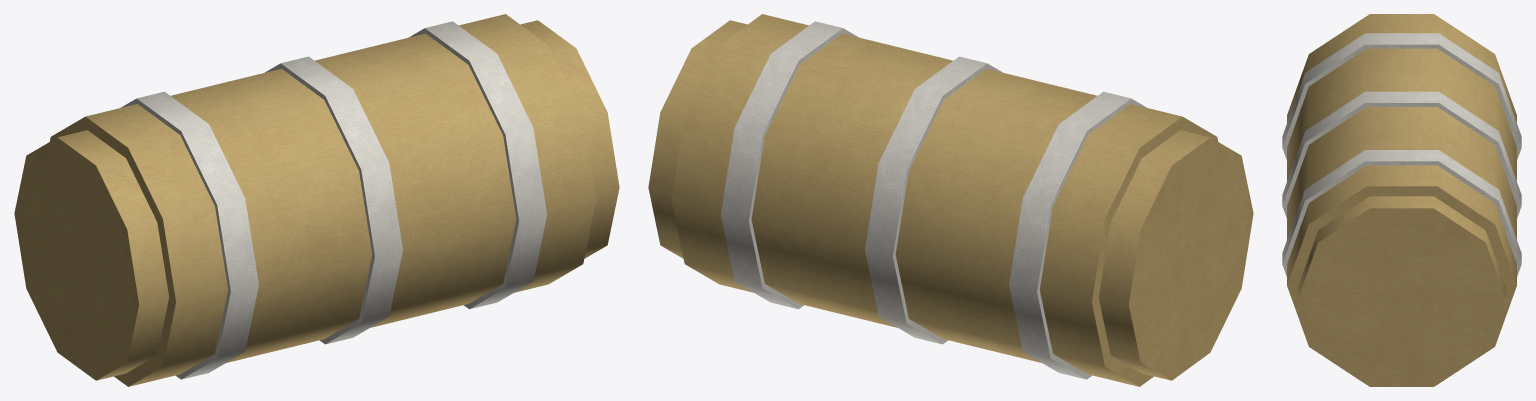
File: HO_Prop_RiceBale.fbx
The picture shows the model from 3 angles, left to right: view 1: azimuth 30°, elevation 25°; view 2: azimuth 150°, elevation 25°; view 3: azimuth 270°, elevation 25°; orthographic projection. The views are drawn at different scales.
Visible parts, largest first — view 1: HO_Prop_RiceBale__Straw, HO_Prop_RiceBale__Cloth_White; view 2: HO_Prop_RiceBale__Straw, HO_Prop_RiceBale__Cloth_White; view 3: HO_Prop_RiceBale__Straw, HO_Prop_RiceBale__Cloth_White.
Part boxes in pixels (x1=…): HO_Prop_RiceBale__Straw: x1=14, y1=14, x2=619, y2=386; HO_Prop_RiceBale__Cloth_White: x1=121, y1=21, x2=547, y2=379; HO_Prop_RiceBale__Straw: x1=648, y1=14, x2=1253, y2=386; HO_Prop_RiceBale__Cloth_White: x1=720, y1=21, x2=1146, y2=379; HO_Prop_RiceBale__Straw: x1=1287, y1=14, x2=1516, y2=386; HO_Prop_RiceBale__Cloth_White: x1=1282, y1=33, x2=1521, y2=276.
Bounding box in the file's own units: 2.4 × 1.19 × 1.25.
